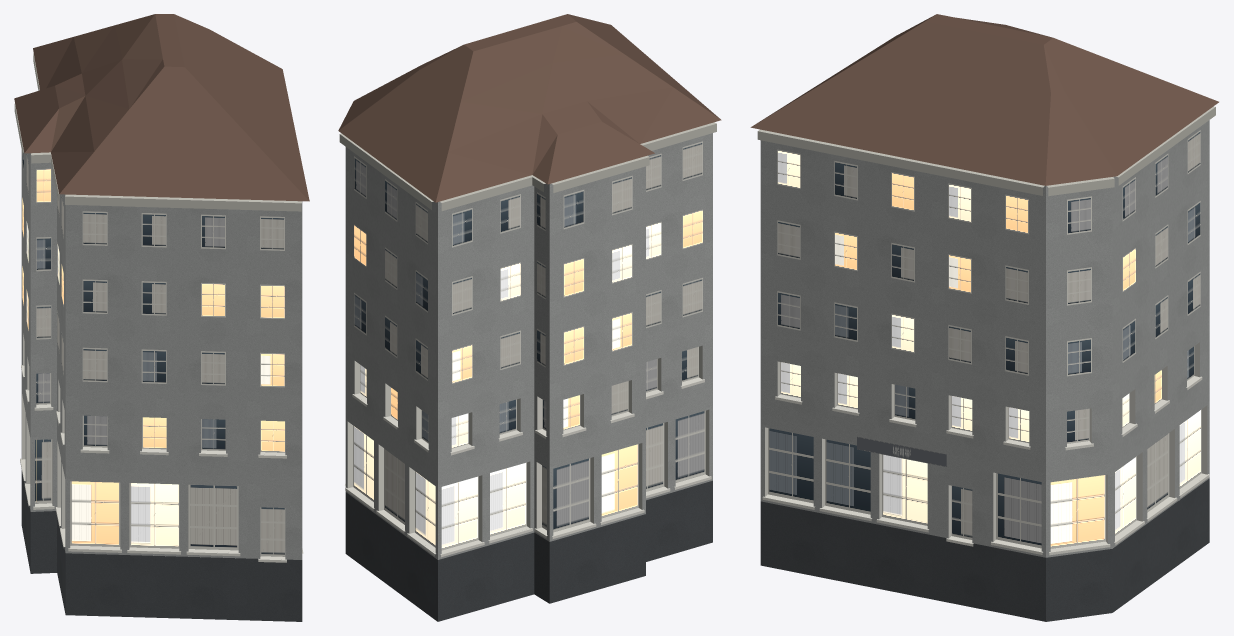
Rendered from langC_aargauerhof.glb.
3 views of the same model, side by side, from view 1: azimuth 30°, elevation 25°; view 2: azimuth 150°, elevation 25°; view 3: azimuth 270°, elevation 25° (orthographic). The views are drawn at different scales.
Visible parts, largest first — view 1: langC_aargauerhof; view 2: langC_aargauerhof; view 3: langC_aargauerhof.
Boxes of the visible parts, bbox=[...] form: langC_aargauerhof: bbox=[14, 14, 309, 621]; langC_aargauerhof: bbox=[338, 14, 721, 621]; langC_aargauerhof: bbox=[750, 14, 1218, 621].
Size of the model in its own units: 15.01 by 24.53 by 19.88.
3 materials, 3 textured.
